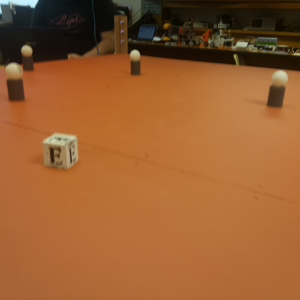blockE: (42, 132, 78, 170)
corner: (112, 15, 128, 56)
obstacle: (5, 62, 25, 103), (266, 70, 287, 108), (21, 45, 33, 71), (130, 49, 141, 76)
